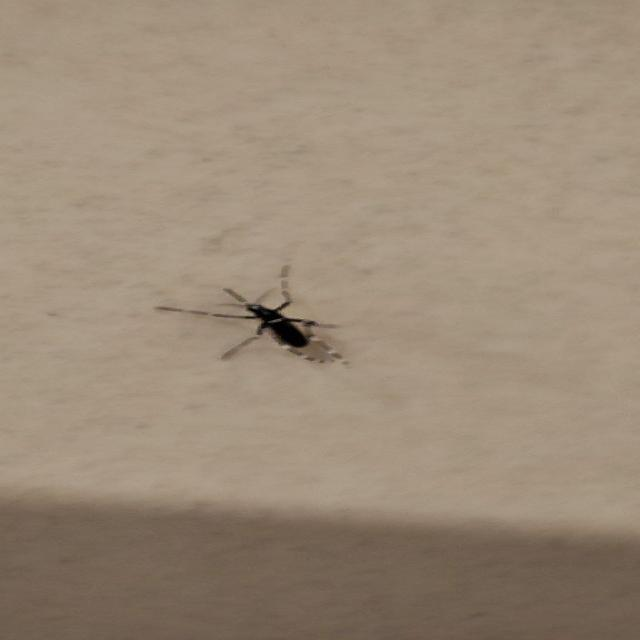albopictus: (147, 258, 356, 364)
